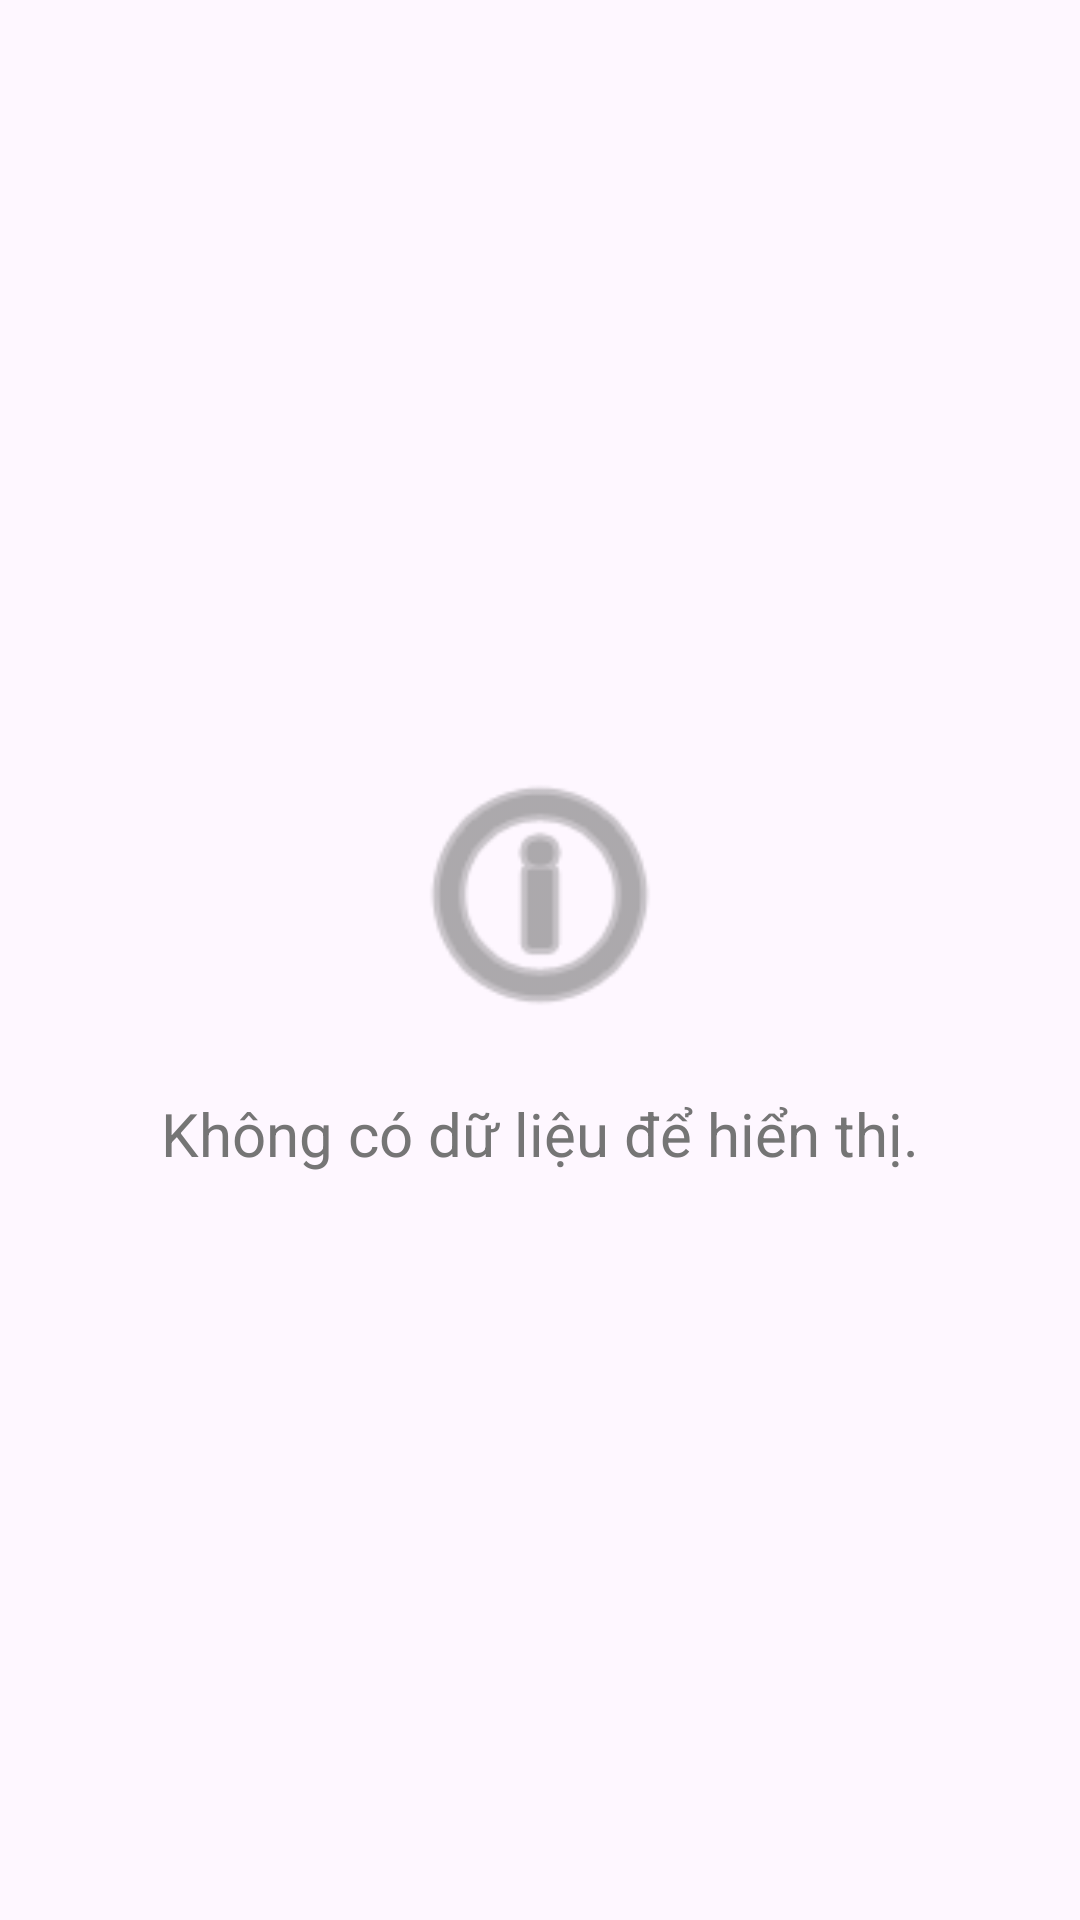

Where to tap for icons on this 1080*1920 app screen, as point (x, y):
No Data Icon: point (540, 895)
